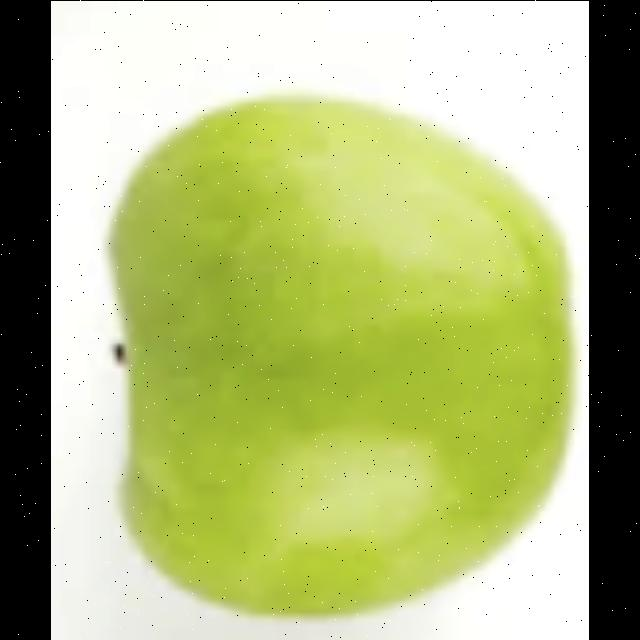Apel Segar: (108, 88, 578, 618)
